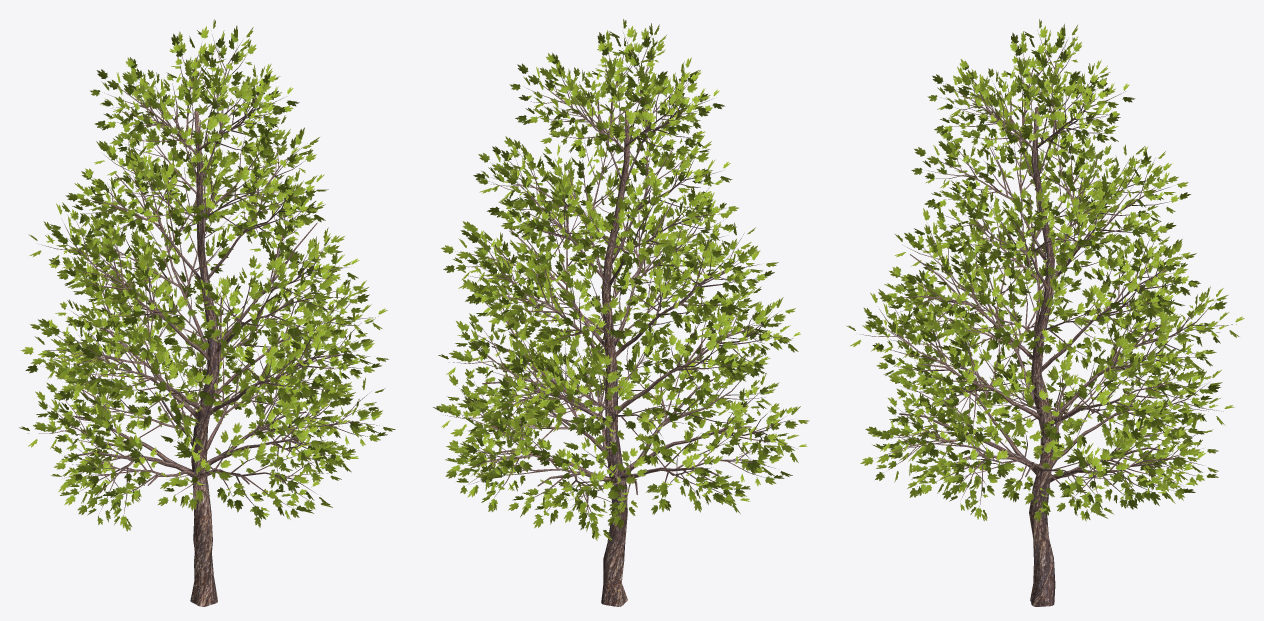
Rendered from Maple 02.fbx.
3 renders of one model, left to right at view 1: azimuth 30°, elevation 25°; view 2: azimuth 150°, elevation 25°; view 3: azimuth 270°, elevation 25°, orthographic.
Parts seen in each view (by area): view 1: maple02; view 2: maple02; view 3: maple02.
Part boxes in pixels (x1=…): maple02: x1=19, y1=19, x2=395, y2=606; maple02: x1=433, y1=19, x2=809, y2=606; maple02: x1=846, y1=19, x2=1244, y2=606.
Size of the model in its own units: 1314 by 2027 by 1360.
